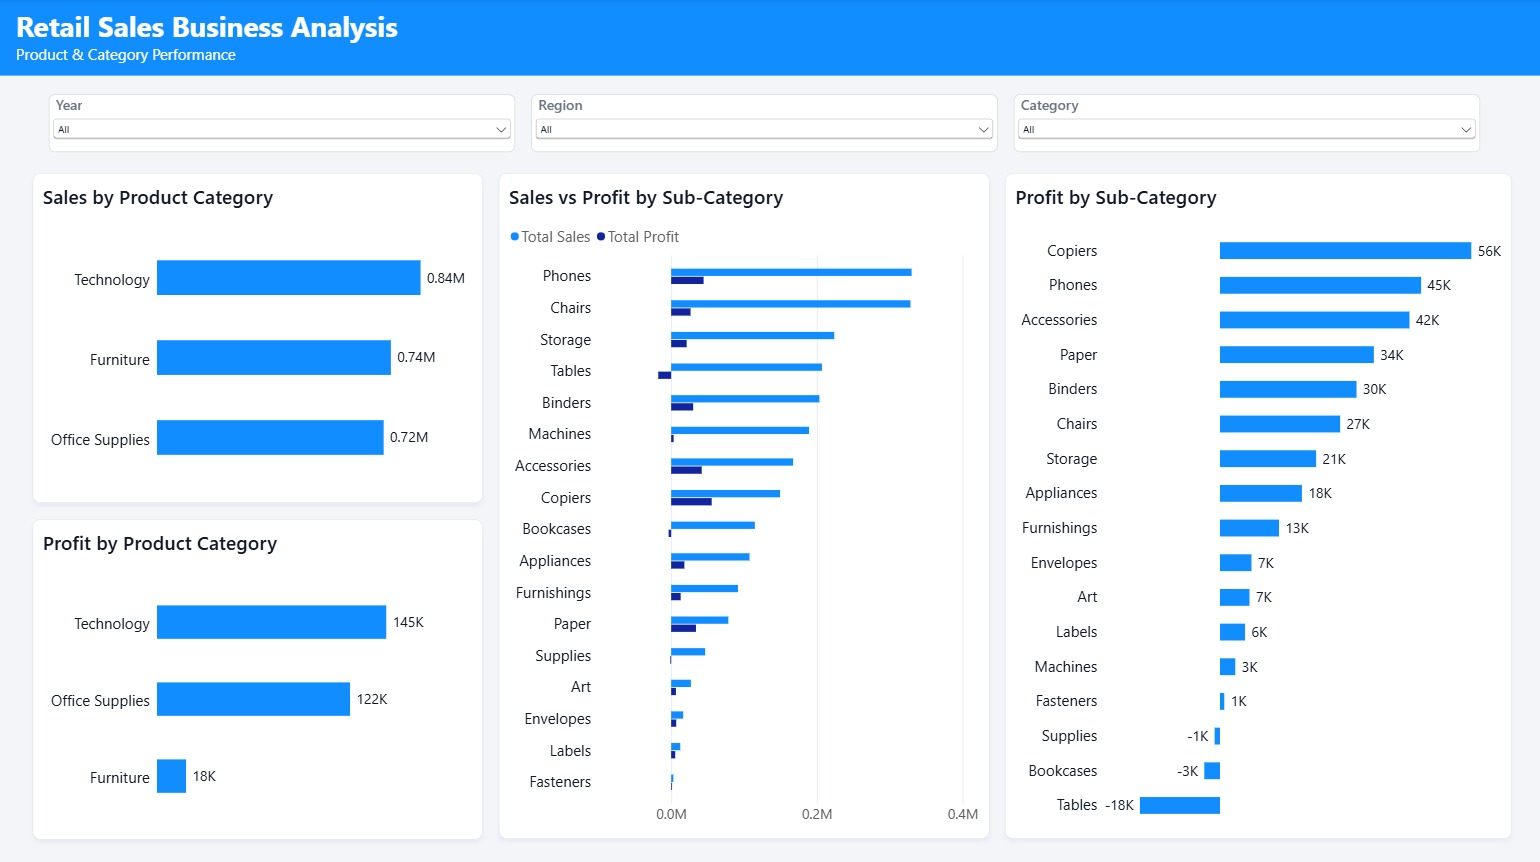

This screenshot's page, from the dashboard's own definition file:
{"tool":"powerbi","page":{"name":"Product Analysis","canvas":[1920,1080],"ordinal":1},"visuals":[{"type":"shape","box":[0,0,1920,92],"z":0},{"type":"shape","box":[0,92,1920,5],"z":1000},{"type":"textbox","box":[0,0,1920,91.7],"z":2000},{"type":"shape","box":[40,112,1840,88],"z":7000},{"type":"slicer","fields":{"Values":["superstore superstore_sales.order_date.Variation.Date Hierarchy.Year"]},"box":[60,120,580,72],"z":8000},{"type":"slicer","fields":{"Values":["superstore superstore_sales.region"]},"box":[660,120,580,72],"z":9000},{"type":"slicer","fields":{"Values":["superstore superstore_sales.category"]},"box":[1260,120,580,72],"z":10000},{"type":"clusteredBarChart","title":"Sales by Product Category","fields":{"Category":["superstore superstore_sales.category"],"Y":["superstore superstore_sales.Total Sales"]},"box":[40,218,560,410],"z":11000},{"type":"clusteredBarChart","title":"Profit by Product Category","fields":{"Category":["superstore superstore_sales.category"],"Y":["superstore superstore_sales.Total Profit"]},"box":[40,648,560,398],"z":12000},{"type":"clusteredBarChart","title":"Sales vs Profit by Sub-Category","fields":{"Category":["superstore superstore_sales.sub_category"],"Y":["superstore superstore_sales.Total Sales","superstore superstore_sales.Total Profit"]},"box":[620,218,610,828],"z":13000},{"type":"clusteredBarChart","title":"Profit by Sub-Category","fields":{"Category":["superstore superstore_sales.sub_category"],"Y":["superstore superstore_sales.Total Profit"]},"box":[1250,218,630,828],"z":14000}]}

Visuals, with their boxes in screenshot pixels (x1, y1, x2, y2), scaled from the page's 1920x1080 canvas onto the 1540x862 screenshot:
shape: x1=0, y1=0, x2=1539, y2=73
shape: x1=0, y1=73, x2=1539, y2=77
textbox: x1=0, y1=0, x2=1539, y2=73
shape: x1=32, y1=89, x2=1508, y2=160
slicer - superstore superstore_sales.order_date.Variation.Date Hierarchy.Year: x1=48, y1=96, x2=513, y2=153
slicer - superstore superstore_sales.region: x1=529, y1=96, x2=995, y2=153
slicer - superstore superstore_sales.category: x1=1011, y1=96, x2=1476, y2=153
"Sales by Product Category" clusteredBarChart: x1=32, y1=174, x2=481, y2=501
"Profit by Product Category" clusteredBarChart: x1=32, y1=517, x2=481, y2=835
"Sales vs Profit by Sub-Category" clusteredBarChart: x1=497, y1=174, x2=987, y2=835
"Profit by Sub-Category" clusteredBarChart: x1=1003, y1=174, x2=1508, y2=835
